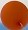Balloon: (1, 1, 28, 30)
